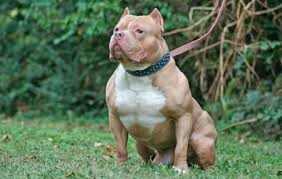Perro Pitbull: (99, 4, 234, 175)
